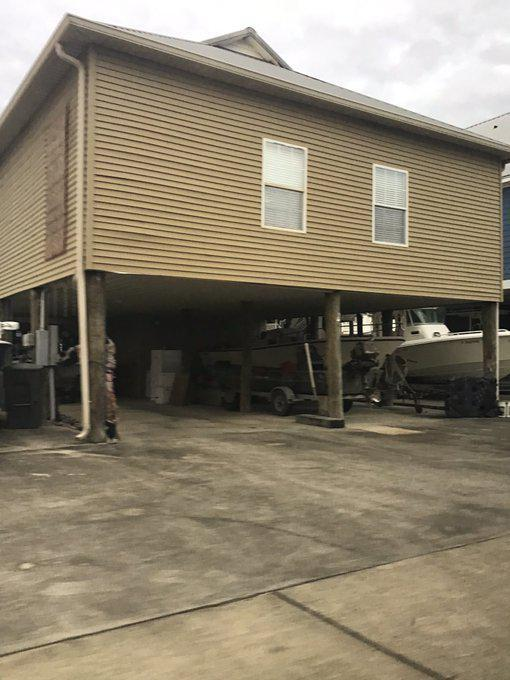affected: (0, 12, 510, 445)
